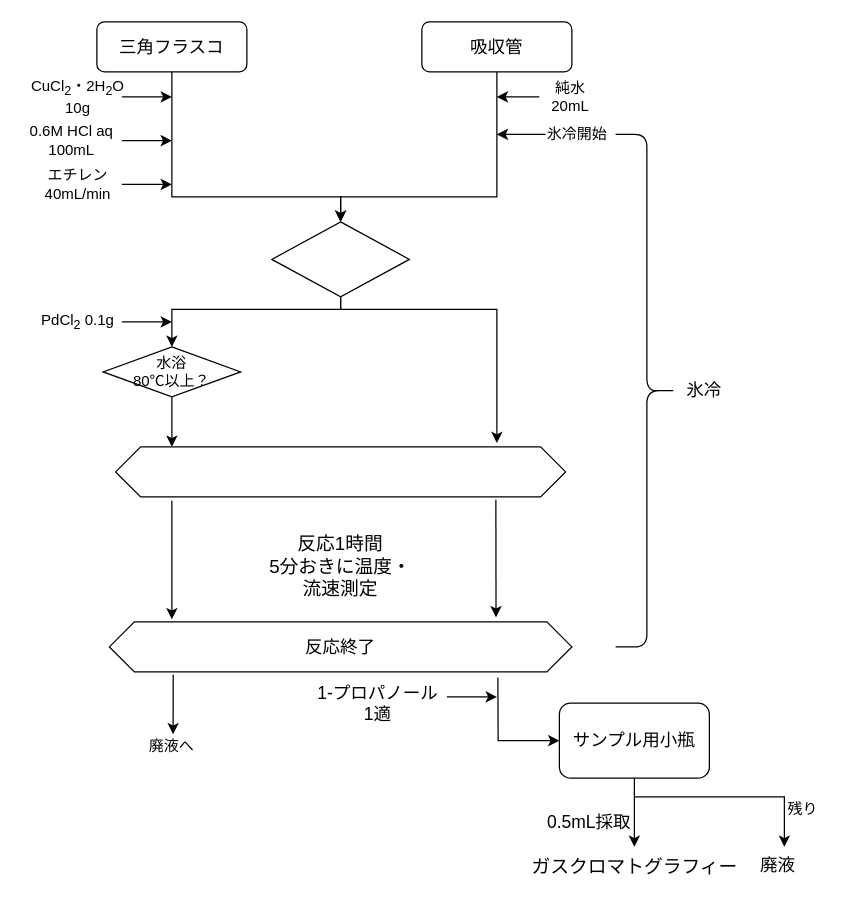
Image size: 855x906. Some labels were removed from this diagram. Here are the shapes that lost their labels. From the top down, the centre of each, then its label:
(340,259): エチレン流速 40mL/s以上？
(340,471): 反応開始
